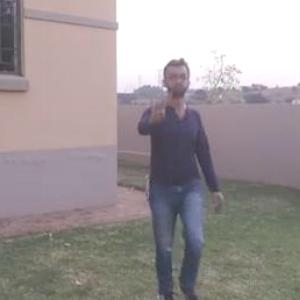takeoff-hand: (147, 98, 172, 128)
